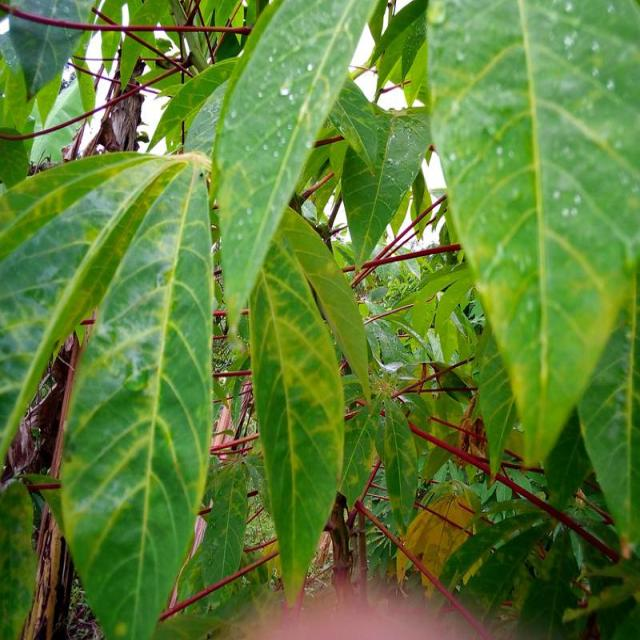cassava leaf: (2, 148, 215, 638), (425, 0, 640, 474), (211, 0, 377, 349), (248, 203, 347, 609)
